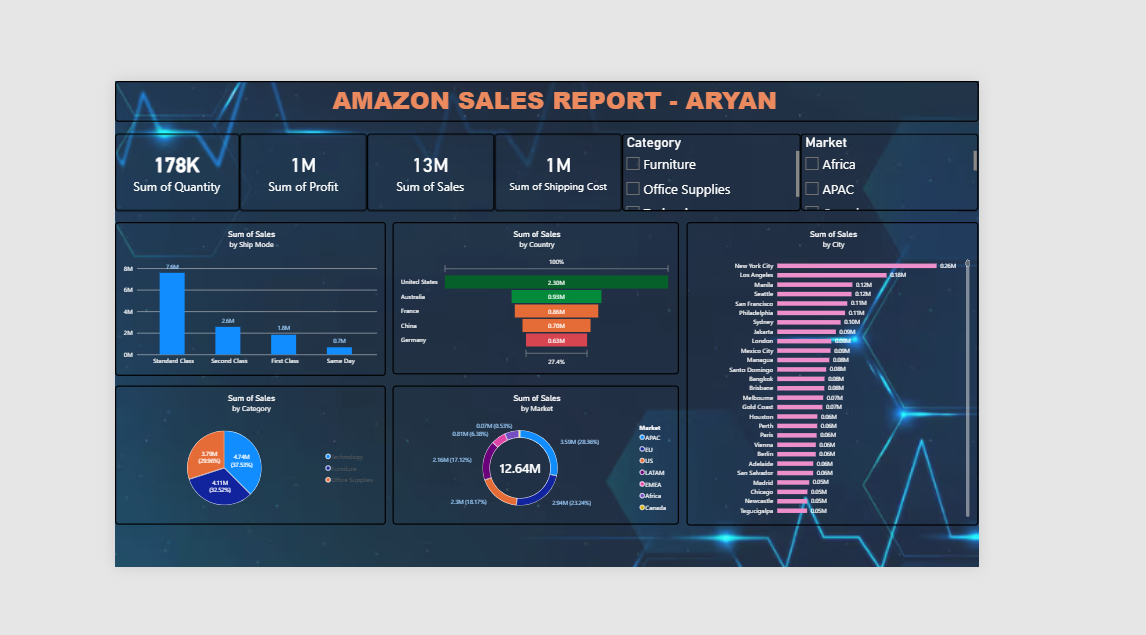

This screenshot's page, from the dashboard's own definition file:
{"tool":"powerbi","page":{"name":"Page 1","canvas":[1920,1080],"ordinal":0},"visuals":[{"type":"pieChart","fields":{"Category":["Orders.Category"],"Y":["Sum(Orders.Sales)"]},"box":[0,677.7,601.7,309.6],"z":0},{"type":"donutChart","fields":{"Category":["Orders.Market"],"Y":["Sum(Orders.Sales)"]},"box":[616.3,677.7,636.8,309.6],"z":1000},{"type":"columnChart","fields":{"Category":["Orders.Ship Mode"],"Y":["Sum(Orders.Sales)"]},"box":[0,312.5,601.7,341.7],"z":2000},{"type":"clusteredBarChart","fields":{"Category":["Orders.City"],"Y":["Sum(Orders.Sales)"]},"box":[1270.6,312.5,648.4,674.7],"z":3000},{"type":"funnel","fields":{"Category":["Orders.Country"],"Y":["Sum(Orders.Sales)"]},"box":[616.3,312.5,636.8,338.8],"z":4000},{"type":"textbox","box":[0,0,1919,90.5],"z":5000},{"type":"advanceCardE03760C5AB684758B56AA29F9E6C257B","fields":{"mainMeasure":["Sum(Orders.Quantity)"]},"box":[0,116.8,277.5,172.3],"z":6000},{"type":"advanceCardE03760C5AB684758B56AA29F9E6C257B","fields":{"mainMeasure":["Sum(Orders.Profit)"]},"box":[277.5,116.8,283.3,172.3],"z":7000},{"type":"advanceCardE03760C5AB684758B56AA29F9E6C257B","fields":{"mainMeasure":["Sum(Orders.Sales)"]},"box":[560.8,116.8,283.3,172.3],"z":8000},{"type":"advanceCardE03760C5AB684758B56AA29F9E6C257B","fields":{"mainMeasure":["Sum(Orders.Shipping Cost)"]},"box":[844.1,116.8,283.3,172.3],"z":9000},{"type":"slicer","fields":{"Values":["Orders.Category"]},"box":[1127.5,116.8,397.2,172.3],"z":10000},{"type":"slicer","fields":{"Values":["Orders.Market"]},"box":[1524,117,395,172],"z":11000}]}

Visuals, with their boxes in screenshot pixels (x1, y1, x2, y2), scaled from the page's 1920x1080 canvas onto the 1146x635 screenshot:
pieChart - Orders.Category x Sum(Orders.Sales): pyautogui.locateOnScreen(0, 398, 359, 580)
donutChart - Orders.Market x Sum(Orders.Sales): pyautogui.locateOnScreen(368, 398, 748, 580)
columnChart - Orders.Ship Mode x Sum(Orders.Sales): pyautogui.locateOnScreen(0, 184, 359, 385)
clusteredBarChart - Orders.City x Sum(Orders.Sales): pyautogui.locateOnScreen(758, 184, 1145, 580)
funnel - Orders.Country x Sum(Orders.Sales): pyautogui.locateOnScreen(368, 184, 748, 383)
textbox: pyautogui.locateOnScreen(0, 0, 1145, 53)
advanceCardE03760C5AB684758B56AA29F9E6C257B - Sum(Orders.Quantity): pyautogui.locateOnScreen(0, 69, 166, 170)
advanceCardE03760C5AB684758B56AA29F9E6C257B - Sum(Orders.Profit): pyautogui.locateOnScreen(166, 69, 335, 170)
advanceCardE03760C5AB684758B56AA29F9E6C257B - Sum(Orders.Sales): pyautogui.locateOnScreen(335, 69, 504, 170)
advanceCardE03760C5AB684758B56AA29F9E6C257B - Sum(Orders.Shipping Cost): pyautogui.locateOnScreen(504, 69, 673, 170)
slicer - Orders.Category: pyautogui.locateOnScreen(673, 69, 910, 170)
slicer - Orders.Market: pyautogui.locateOnScreen(910, 69, 1145, 170)
